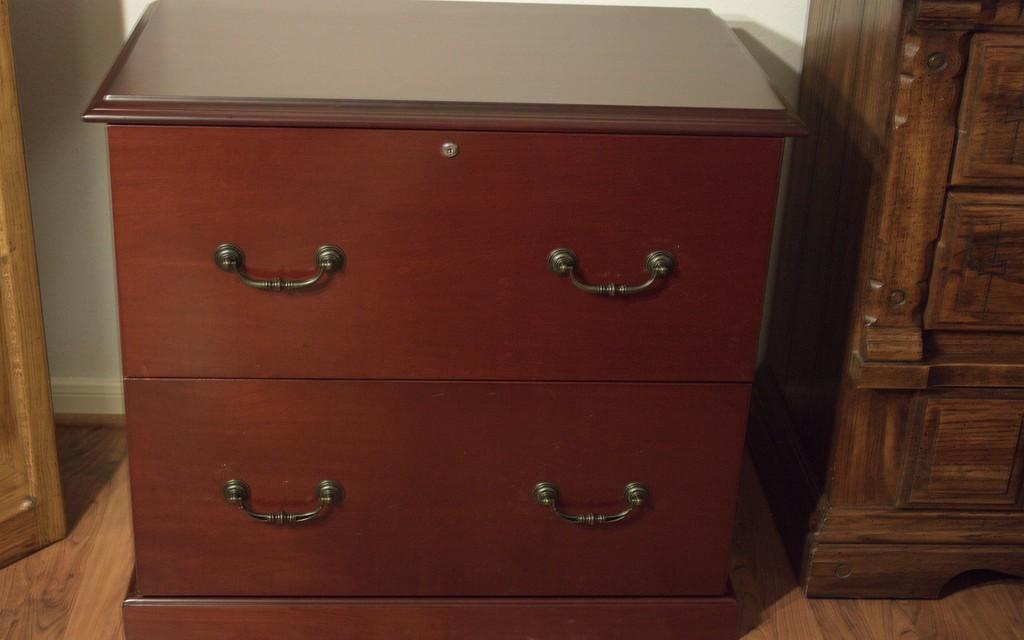cabinet_door: (116, 128, 766, 371), (130, 387, 734, 596)
handle: (558, 252, 676, 312), (219, 248, 340, 299), (538, 482, 652, 536), (230, 484, 342, 532)
